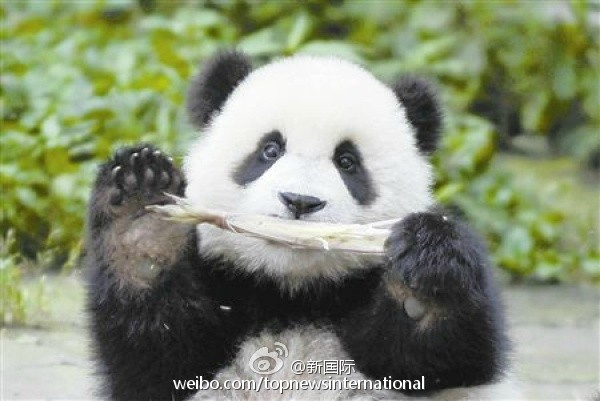panda: (72, 41, 520, 401)
